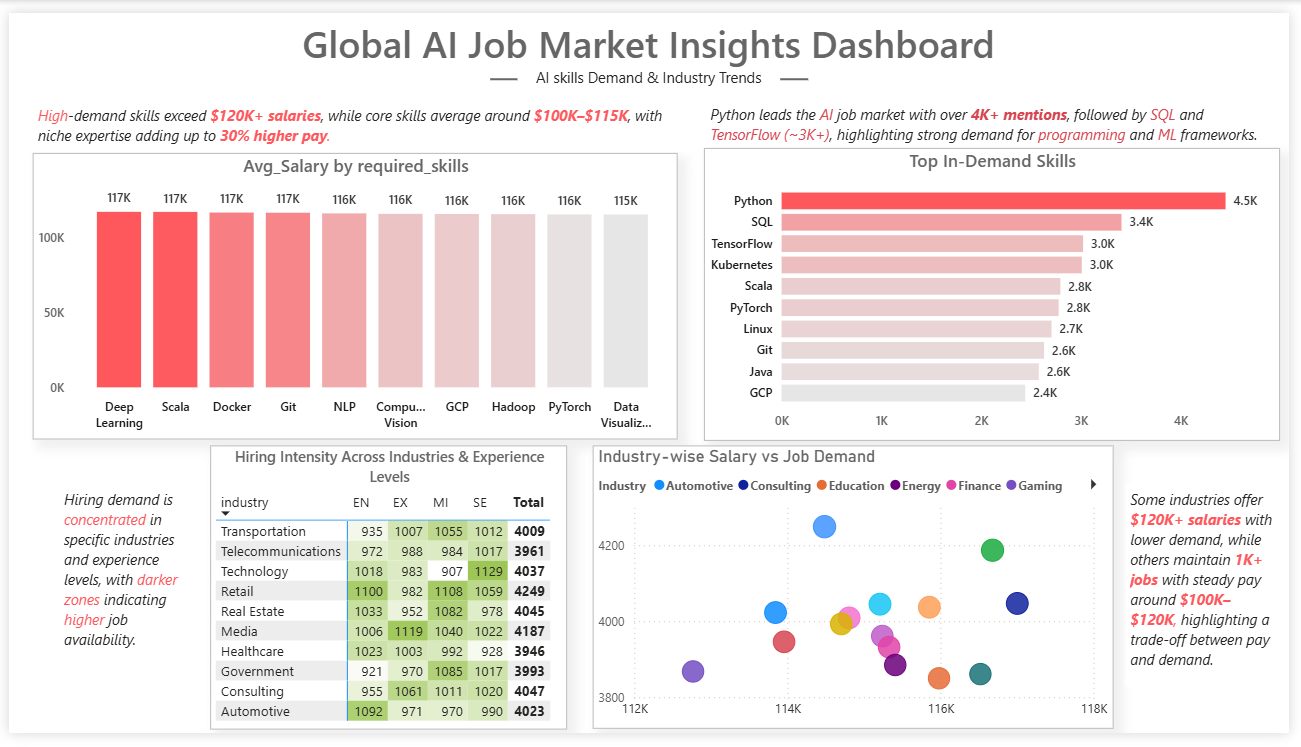

The page's visual inventory and layout, read from the dashboard file:
{"tool":"powerbi","page":{"name":"Skills & Industry","canvas":[1280,720],"ordinal":2},"visuals":[{"type":"textbox","box":[62.9,0,1154.5,93.1],"z":0},{"type":"shape","box":[771.2,30,28,72.5],"z":1000},{"type":"shape","box":[481.2,30,27.5,72.5],"z":2000},{"type":"clusteredBarChart","title":"Top In-Demand Skills","fields":{"Category":["ai_job_dataset.required_skills"],"Y":["CountNonNull(ai_job_dataset.required_skills)"]},"box":[694.9,134.4,575.9,292.7],"z":3000},{"type":"textbox","box":[696,86.9,574.7,72.6],"z":4000},{"type":"clusteredColumnChart","fields":{"Category":["ai_job_dataset.required_skills"],"Y":["ai_job_dataset.Avg_Salary"]},"box":[23.8,140.4,644.9,286.7],"z":5000},{"type":"textbox","box":[23.8,88,659.2,51.2],"z":6000},{"type":"pivotTable","title":"Hiring Intensity Across Industries & Experience Levels","fields":{"Rows":["ai_job_dataset.industry"],"Columns":["ai_job_dataset.experience_level"],"Values":["ai_job_dataset.Job_Count"]},"box":[201.1,433.1,356.9,284.4],"z":7000},{"type":"textbox","box":[50,471.2,141.6,204.6],"z":8000},{"type":"scatterChart","title":"Industry-wise Salary vs Job Demand","fields":{"X":["ai_job_dataset.Avg_Salary"],"Y":["ai_job_dataset.Job_Count"],"Size":["ai_job_dataset.Job_Count"],"Series":["ai_job_dataset.industry"]},"box":[584.2,433.1,521.1,283.2],"z":9000},{"type":"textbox","box":[1116,471.2,154.7,202.3],"z":10000}]}

Visuals, with their boxes in screenshot pixels (x1, y1, x2, y2), scaled from the page's 1280x720 canvas onto the 1301x747 screenshot:
textbox: BBox(64, 0, 1237, 97)
shape: BBox(784, 31, 812, 106)
shape: BBox(489, 31, 517, 106)
"Top In-Demand Skills" clusteredBarChart: BBox(706, 139, 1292, 443)
textbox: BBox(707, 90, 1292, 165)
clusteredColumnChart - ai_job_dataset.required_skills x ai_job_dataset.Avg_Salary: BBox(24, 146, 680, 443)
textbox: BBox(24, 91, 694, 144)
"Hiring Intensity Across Industries & Experience Levels" pivotTable: BBox(204, 449, 567, 744)
textbox: BBox(51, 489, 195, 701)
"Industry-wise Salary vs Job Demand" scatterChart: BBox(594, 449, 1123, 743)
textbox: BBox(1134, 489, 1292, 699)
